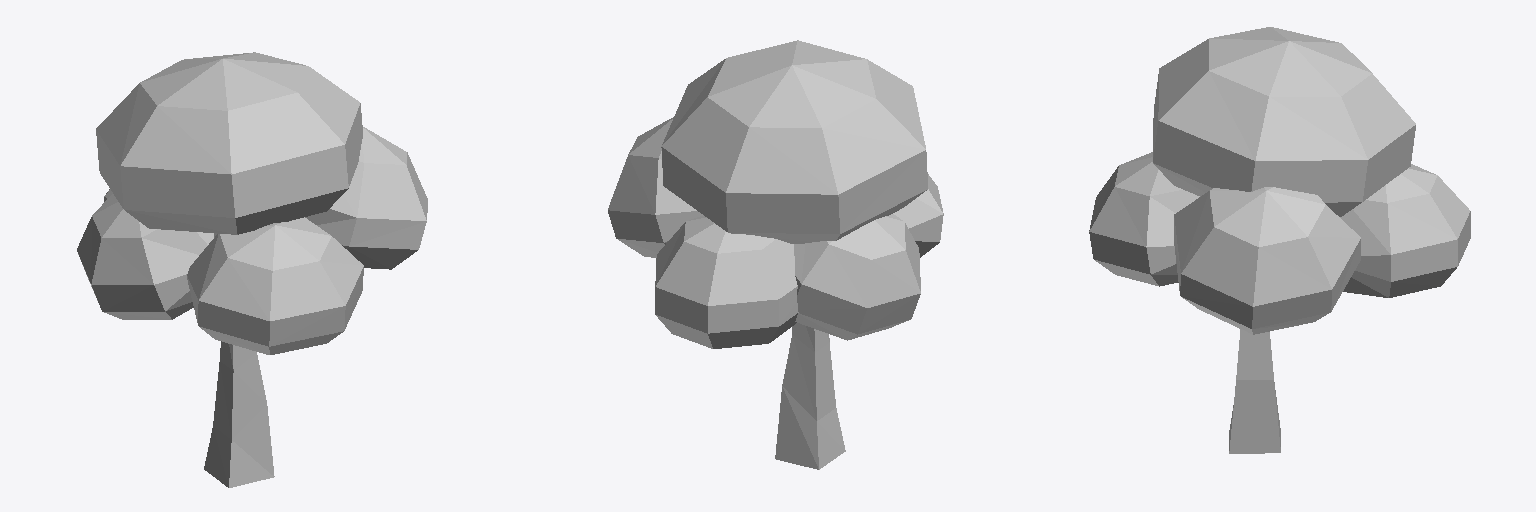
Rendered from tree_E.obj.
3 views of the same model, side by side, from view 1: azimuth 30°, elevation 25°; view 2: azimuth 150°, elevation 25°; view 3: azimuth 270°, elevation 25° (orthographic).
Visible parts, largest first — view 1: tree_E_Cube.14214; view 2: tree_E_Cube.14214; view 3: tree_E_Cube.14214.
Boxes of the visible parts, <box> form: tree_E_Cube.14214: <box>77,52,427,487</box>; tree_E_Cube.14214: <box>608,40,943,469</box>; tree_E_Cube.14214: <box>1089,27,1470,453</box>.
Bounding box in the file's own units: 0.884 × 1.07 × 0.9191.